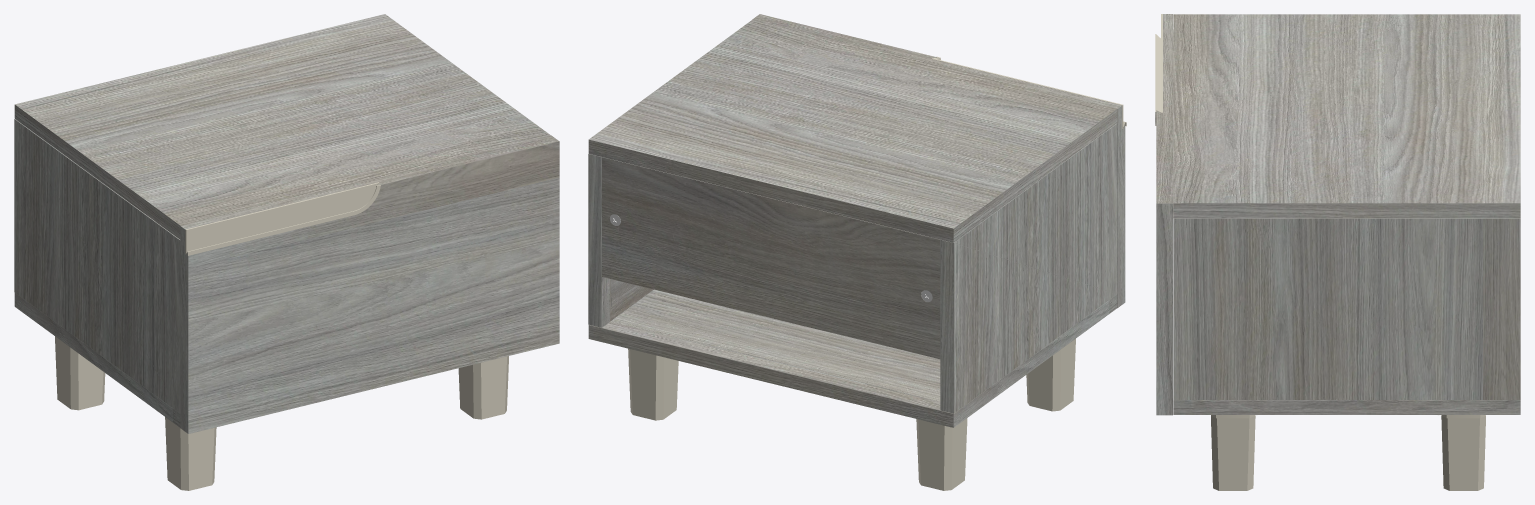
3 renders of one model, left to right at view 1: azimuth 30°, elevation 25°; view 2: azimuth 150°, elevation 25°; view 3: azimuth 270°, elevation 25°, orthographic. The views are drawn at different scales.
Visible parts, largest first — view 1: group_0.094, group_0.088, group_0.143; view 2: group_0.094, group_0.088; view 3: group_0.094, group_0.088, group_0.143.
Part boxes in pixels (bbox=[...]): group_0.094: bbox=[14, 14, 559, 433]; group_0.088: bbox=[55, 336, 508, 490]; group_0.143: bbox=[185, 182, 380, 255]; group_0.094: bbox=[588, 14, 1125, 427]; group_0.088: bbox=[628, 338, 1075, 490]; group_0.094: bbox=[1156, 14, 1520, 415]; group_0.088: bbox=[1211, 415, 1485, 490]; group_0.143: bbox=[1155, 14, 1162, 125].
Bounding box in the file's own units: 0.4811 × 0.3532 × 0.391.
3 materials, 1 textured.
